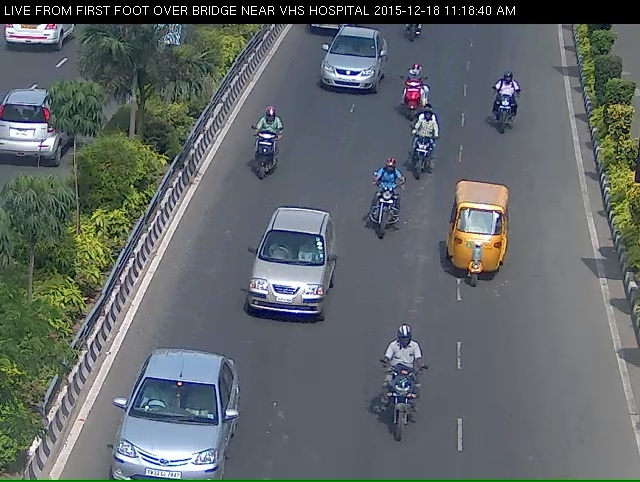Auto: (443, 190, 512, 303)
Car: (96, 373, 231, 479), (236, 223, 329, 351), (313, 34, 381, 106)
Person: (374, 349, 429, 474), (361, 171, 399, 269), (398, 123, 437, 198), (486, 78, 528, 147), (238, 117, 278, 188), (396, 67, 430, 123)
